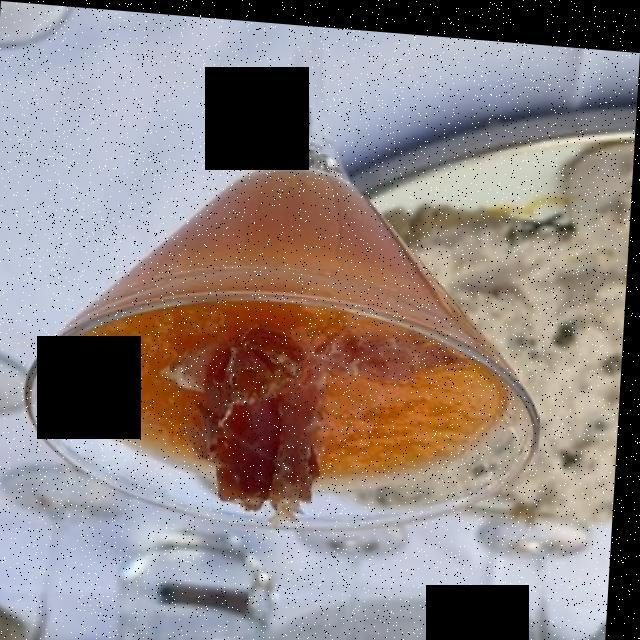melon: (78, 305, 490, 503)
